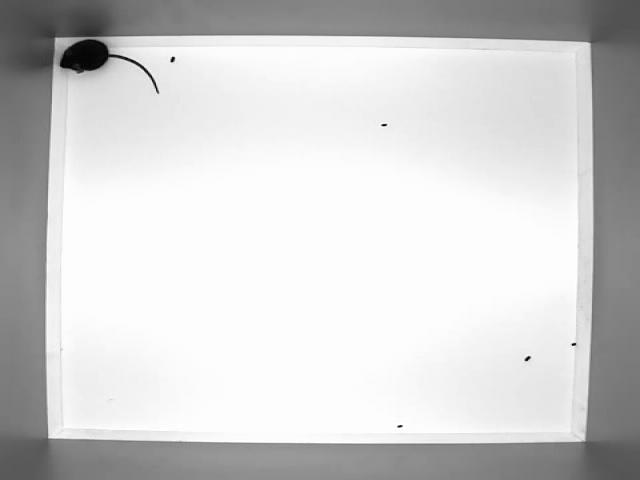Tikus: (52, 38, 176, 96)
